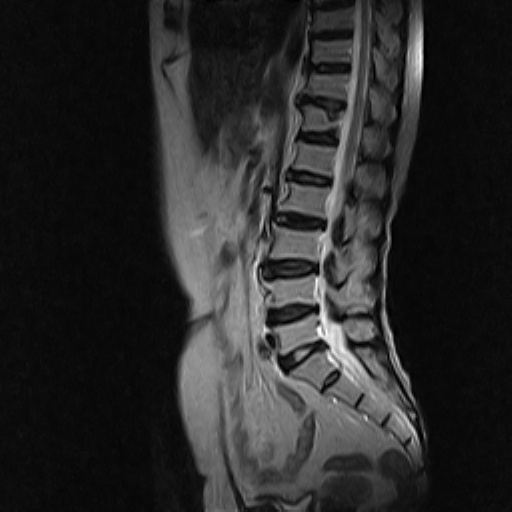L1,v2: (290, 148, 339, 175)
L1-L2,: (285, 166, 334, 193)
L2,v2: (282, 185, 331, 212)
L2-L3,v2: (280, 212, 329, 239)
L3,v2: (269, 231, 318, 258)
L3-L4,v2: (271, 255, 320, 282)
L4,v2: (268, 277, 317, 304)
L4-L5,v4: (269, 299, 318, 326)
L5,v2: (272, 318, 321, 345)
L5-S1,: (279, 340, 328, 367)
T12-L1,v5: (297, 124, 346, 151)
